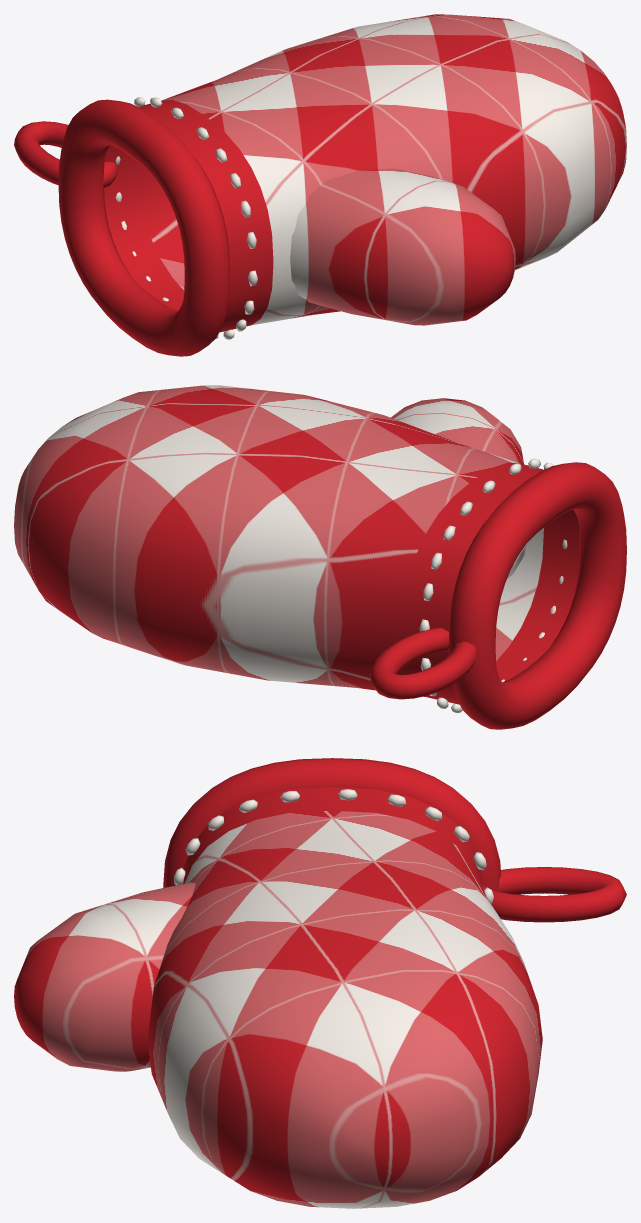
The model's file is oven_mitts.glb.
The picture shows the model from 3 angles, top to bottom: view 1: azimuth 30°, elevation 25°; view 2: azimuth 150°, elevation 25°; view 3: azimuth 270°, elevation 25°; orthographic projection. The views are drawn at different scales.
Parts seen in each view (by area): view 1: OvenMitt; view 2: OvenMitt; view 3: OvenMitt.
Boxes of the visible parts, x1,y1,x2,y2 form: OvenMitt: (14,14,626,356); OvenMitt: (14,385,626,729); OvenMitt: (14,758,626,1208).
Size of the model in its own units: 0.322 by 0.138 by 0.304.
Materials: 3 (1 with a texture image).
